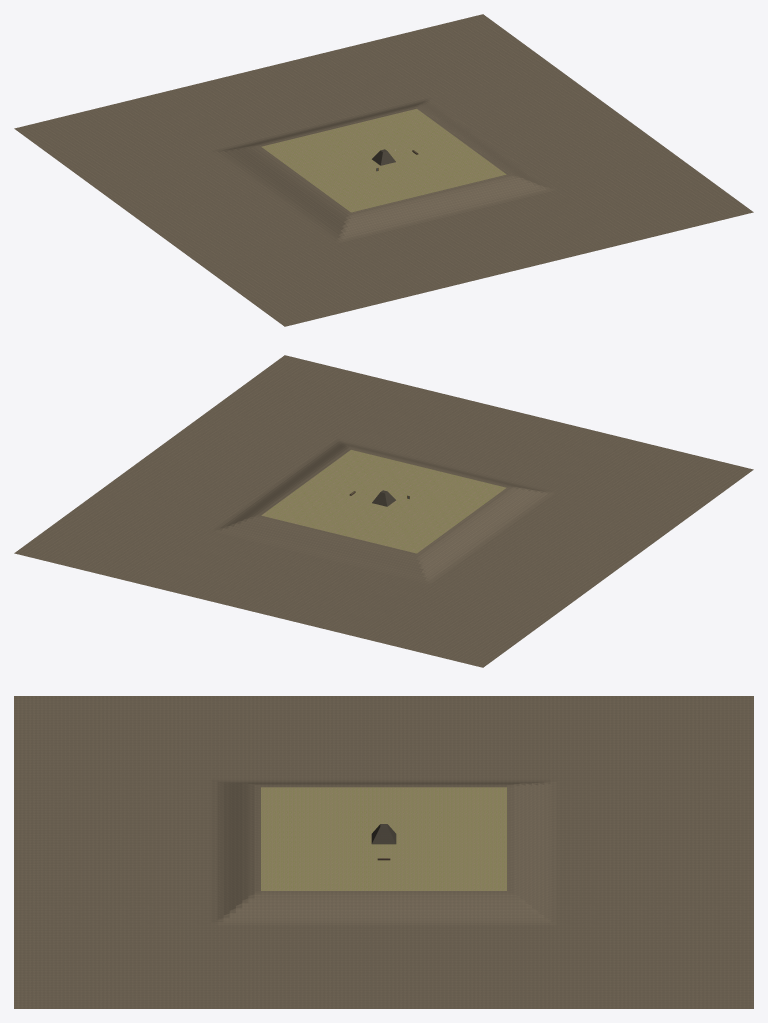
File: lab_map.glb
3 views of the same model, one above another, from view 1: azimuth 30°, elevation 25°; view 2: azimuth 150°, elevation 25°; view 3: azimuth 270°, elevation 25° (orthographic). The views are drawn at different scales.
Visible parts, largest first — view 1: Beach, Floor; view 2: Beach, Floor; view 3: Beach, Floor.
Part boxes in pixels (x1,y1,x2,y2): Beach: (14,14,753,326); Floor: (261,109,506,212); Beach: (14,355,753,667); Floor: (261,450,506,553); Beach: (14,696,753,1008); Floor: (261,787,506,890).
Size of the model in its own units: 1500 by 60.05 by 1500.
9 materials, 8 textured.
